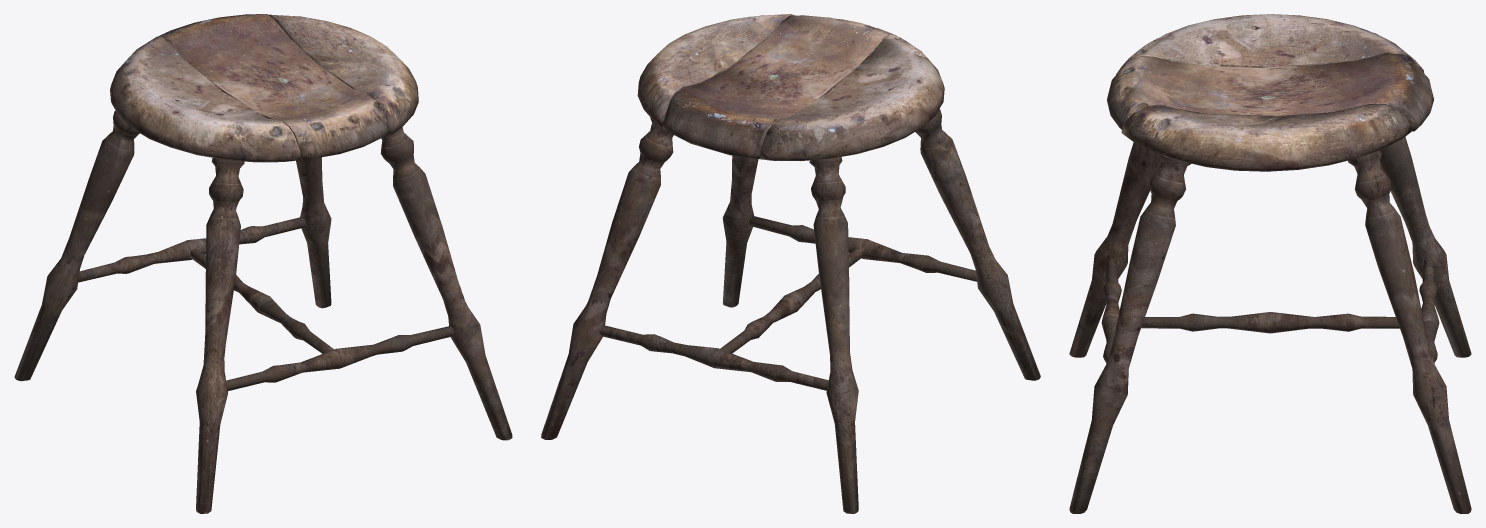
The model's file is wooden_stool_01.fbx.
3 renders of one model, left to right at view 1: azimuth 30°, elevation 25°; view 2: azimuth 150°, elevation 25°; view 3: azimuth 270°, elevation 25°, orthographic. The views are drawn at different scales.
Parts seen in each view (by area): view 1: wooden_stool_01_LOD0; view 2: wooden_stool_01_LOD0; view 3: wooden_stool_01_LOD0.
Part boxes in pixels (left/top/right/bottom): wooden_stool_01_LOD0: left=14, top=14, right=512, bottom=513; wooden_stool_01_LOD0: left=541, top=14, right=1040, bottom=513; wooden_stool_01_LOD0: left=1069, top=14, right=1471, bottom=513.
Size of what is drawn, in the model's own units: 42.52 by 43.75 by 44.21.
Materials: 1 (1 with a texture image).
